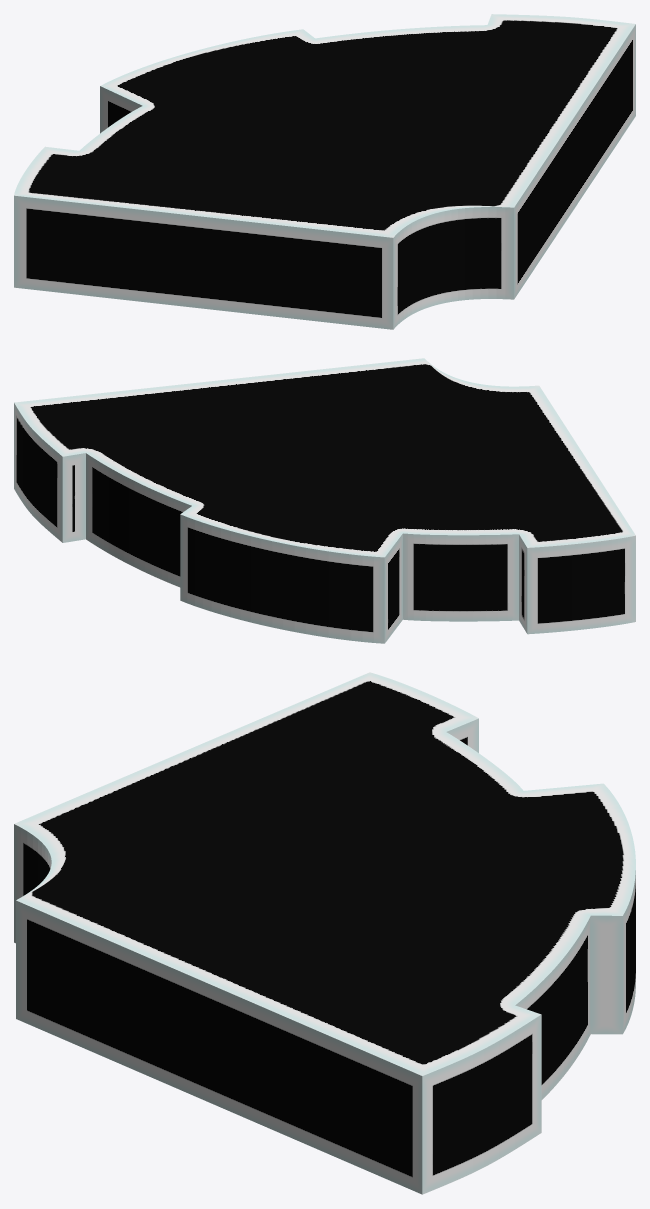
File: UltimaSegmentum.obj
The picture shows the model from 3 angles, top to bottom: view 1: azimuth 30°, elevation 25°; view 2: azimuth 150°, elevation 25°; view 3: azimuth 270°, elevation 25°; orthographic projection. The views are drawn at different scales.
Parts seen in each view (by area): view 1: UltimaSegmentum; view 2: UltimaSegmentum; view 3: UltimaSegmentum.
Part boxes in pixels (x1,y1,x2,y2): UltimaSegmentum: (14,14,635,329); UltimaSegmentum: (14,358,635,643); UltimaSegmentum: (14,672,635,1194).
Bounding box in the file's own units: 8.77 × 1.2 × 5.71.
Materials: 2 (2 with a texture image).
